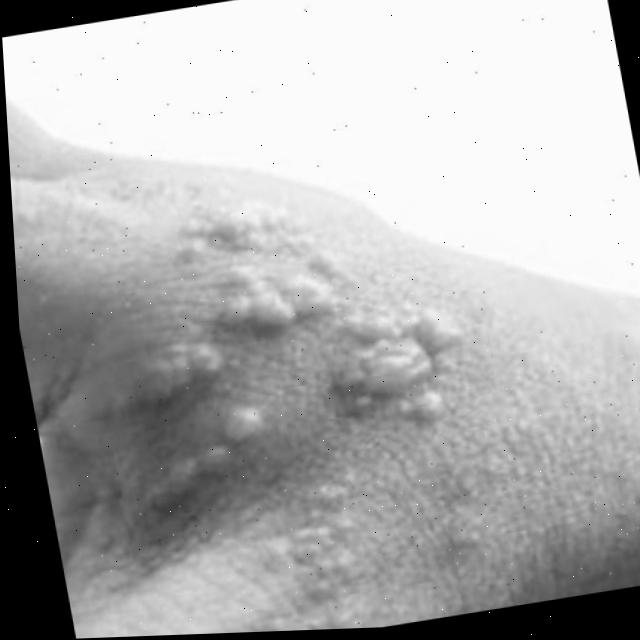Shingles: (86, 165, 472, 490), (274, 490, 369, 625)
